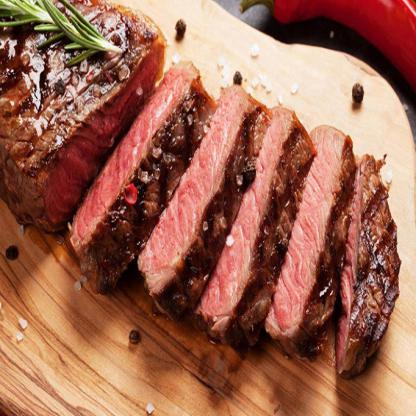Carne: (60, 56, 216, 300), (0, 9, 161, 239), (134, 74, 264, 335), (228, 103, 304, 358), (268, 118, 346, 352), (335, 133, 402, 367)
